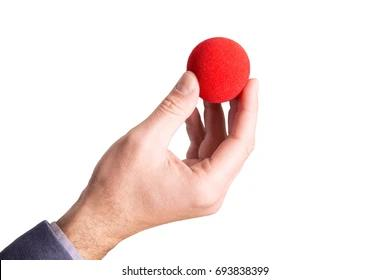Red_Ball: (173, 34, 256, 104)
